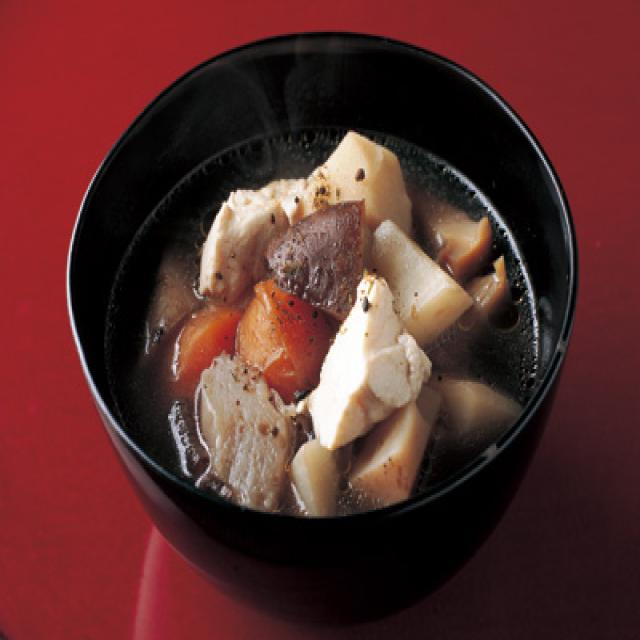蔬菜料理: (24, 23, 592, 606)
